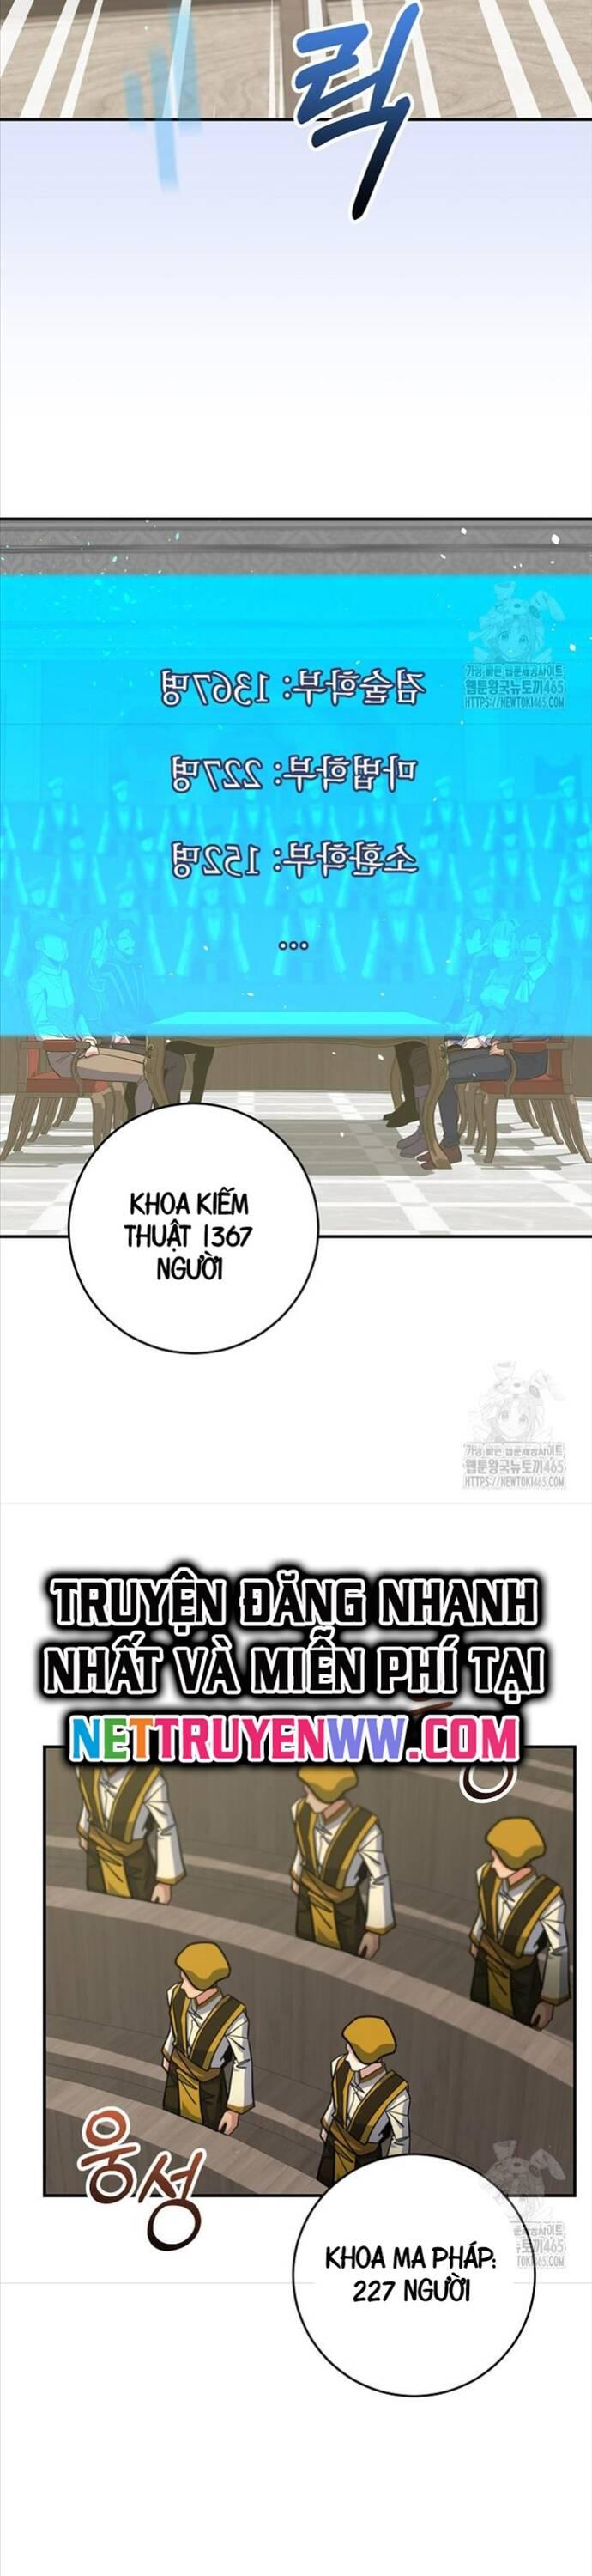quangcao: (34, 1554, 553, 1778)
